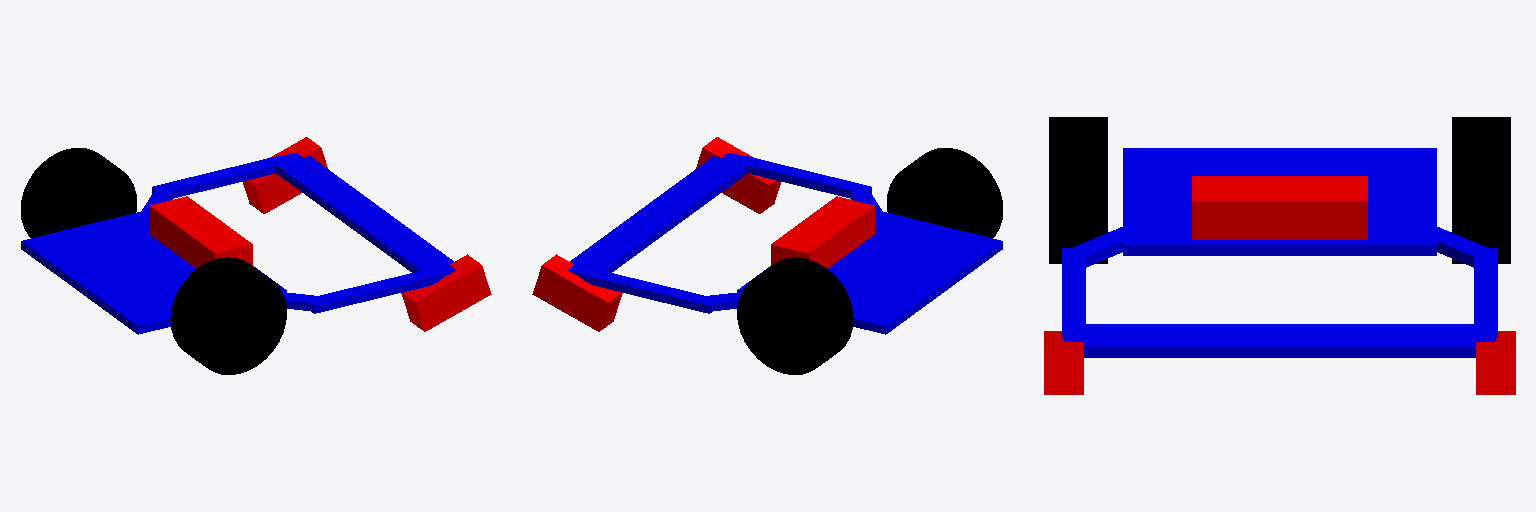
robot.urdf — line_follower:
<?xml version="1.0"?>
<robot name="line_follower">

    <material name="red">
        <color rgba="1 0 0 1"/>
    </material>

    <material name="blue">
        <color rgba="0 0 1 1"/>
    </material>
  
    <material name="green">
        <color rgba="0 1 0 1"/>
    </material>  

    <material name="black">
        <color rgba="0 0 0 1"/>
    </material>


  
  
	<link name="main_board_0">
    	<visual>
      		<geometry>
        		<box size="0.047 0.064 0.0025"/>
      		</geometry>
            <material name ="blue"/>
		  </visual>
  
  		<collision>
        	<geometry>
        		<box size="0.047 0.064 0.0025"/>
            </geometry>
        </collision>

        <contact>
          <lateral_friction value="0.0"/>
          <rolling_friction value="0.0"/>
          <stiffness value="300000"/>
          <damping value="1000"/>
        </contact>
  
   		  <inertial>
            <mass value="0.053"/>
            <inertia ixx="0.0" ixy="0.0" ixz="0.0" iyy="0.0" iyz="0.0" izz="6e-4"/>
        </inertial>
	</link>


	<link name="main_board_1">
    	<visual>
      		<geometry>
         		<box size="0.011 0.088 0.0025"/>
      		</geometry>
          	<material name ="blue"/>
    	</visual>


	    <collision>
        	<geometry>
        		<box size="0.011 0.088 0.0025"/>
            </geometry>
        </collision>

        <contact>
          <lateral_friction value="0.0"/>
          <rolling_friction value="0.0"/>
          <stiffness value="300000"/>
          <damping value="1000"/>
        </contact>
  
   		<inertial>
            <mass value="0.02"/>
            <inertia ixx="0.0" ixy="0.0" ixz="0.0" iyy="0.0" iyz="0.0" izz="6e-4"/>
        </inertial>
	</link>



    <link name="main_board_left_a">
    	<visual>
      		<geometry>
         		<box size="0.04 0.005 0.0025"/>
      		</geometry>
          	<material name ="blue"/>
    	</visual>

	    <collision>
        	<geometry>
        		<box size="0.04 0.005 0.0025"/>
            </geometry>
        </collision>

        <contact>
          <lateral_friction value="0.0"/>
          <rolling_friction value="0.0"/>
          <stiffness value="300000"/>
          <damping value="1000"/>
        </contact>
  
   		<inertial>
            <mass value="0.0"/>
            <inertia ixx="0.0" ixy="0.0" ixz="0.0" iyy="0.0" iyz="0.0" izz="6e-4"/>
        </inertial>
	</link>



	<link name="main_board_left_b">
    	<visual>
      		<geometry>
         		<box size="0.02 0.005 0.0025"/>
      		</geometry>
          	<material name ="blue"/>
    	</visual>

	    <collision>
        	<geometry>
        		<box size="0.02 0.005 0.0025"/>
            </geometry>
        </collision>

        <contact>
          <lateral_friction value="0.0"/>
          <rolling_friction value="0.0"/>
          <stiffness value="300000"/>
          <damping value="1000"/>
        </contact>
  
   		<inertial>
            <mass value="0.0"/>
            <inertia ixx="0.0" ixy="0.0" ixz="0.0" iyy="0.0" iyz="0.0" izz="6e-4"/>
        </inertial>
	</link>




    <link name="main_board_right_a">
    	<visual>
      		<geometry>
         		<box size="0.04 0.005 0.0025"/>
      		</geometry>
          	<material name ="blue"/>
    	</visual>

	    <collision>
        	<geometry>
        		<box size="0.04 0.005 0.0025"/>
            </geometry>
        </collision>

        <contact>
          <lateral_friction value="0.0"/>
          <rolling_friction value="0.0"/>
          <stiffness value="300000"/>
          <damping value="1000"/>
        </contact>
  
   		<inertial>
            <mass value="0.0"/>
            <inertia ixx="0.0" ixy="0.0" ixz="0.0" iyy="0.0" iyz="0.0" izz="6e-4"/>
        </inertial>
	</link>



	<link name="main_board_right_b">
    	<visual>
      		<geometry>
         		<box size="0.02 0.005 0.0025"/>
      		</geometry>
          	<material name ="blue"/>
    	</visual>

	    <collision>
        	<geometry>
        		<box size="0.02 0.005 0.0025"/>
            </geometry>
        </collision>

        <contact>
          <lateral_friction value="0.0"/>
          <rolling_friction value="0.0"/>
          <stiffness value="300000"/>
          <damping value="1000"/>
        </contact>
  
   		<inertial>
            <mass value="0.0"/>
            <inertia ixx="0.0" ixy="0.0" ixz="0.0" iyy="0.0" iyz="0.0" izz="6e-4"/>
        </inertial>
	</link>


  <link name="front_left">
    	<visual>
      		<geometry>
         		<box size="0.022 0.008 0.01"/>
      		</geometry>
            <material name ="red"/>
    	</visual>

 		<collision>
			<geometry>
         		<box size="0.022 0.008 0.01"/>
      		</geometry>
        </collision>

        <contact>
          <lateral_friction value="0.0"/>
          <rolling_friction value="0.0"/>
          <stiffness value="10000000"/>
          <damping value="10000"/>
        </contact>

        <inertial>
            <mass value="0.0005"/>
            <inertia ixx="0.0" ixy="0.0" ixz="0.0" iyy="0.0" iyz="0.0" izz="6e-4"/>
        </inertial>
	</link>


	<link name="front_right">
    	<visual>
      		<geometry>
         		<box size="0.022 0.008 0.01"/>
      		</geometry>
            <material name ="red"/>
    	</visual>

 		<collision>
			<geometry>
         		<box size="0.022 0.008 0.01"/>
      		</geometry>
        </collision>

        <contact>
          <lateral_friction value="0.0"/>
          <rolling_friction value="0.0"/>
          <stiffness value="10000000"/>
          <damping value="10000"/>
        </contact>

        <inertial>
            <mass value="0.0005"/>
            <inertia ixx="0.0" ixy="0.0" ixz="0.0" iyy="0.0" iyz="0.0" izz="6e-4"/>
        </inertial>
	</link>


  <link name="accu">
    	<visual>
      		<geometry>
         		<box size="0.012 0.036 0.01"/>
      		</geometry>
          	<material name ="red"/>
    	</visual>


	    <collision>
        	<geometry>
         		<box size="0.012 0.036 0.01"/>
          </geometry>
      </collision>

        <contact>
          <lateral_friction value="0.0"/>
          <rolling_friction value="0.0"/>
          <stiffness value="300000"/>
          <damping value="1000"/>
        </contact>
  
   		<inertial>
            <mass value="0.01"/>
            <inertia ixx="0.0" ixy="0.0" ixz="0.0" iyy="0.0" iyz="0.0" izz="6e-4"/>
        </inertial>
	</link>



	<link name="left_wheel">
        <visual>
            <geometry>
                <cylinder length="0.012" radius="0.015"/>
            </geometry>
            <material name="black"/>
        </visual>
        <collision>
            <geometry>
                <cylinder length="0.012" radius="0.015"/>
            </geometry>
        </collision>

        <contact>
          <lateral_friction value="0.6"/>
          <rolling_friction value="0.0"/>
          <stiffness value="300000"/>
          <damping value="1000"/>
        </contact>


        <inertial>
            <mass value="0.01"/>
            <inertia ixx="0.0" ixy="0.0" ixz="0.0" iyy="0.0" iyz="0.0" izz="1e-6"/>
        </inertial>
    </link>

    

	<link name="right_wheel">
        <visual>
            <geometry>
                <cylinder length="0.012" radius="0.015"/>
            </geometry>
            <material name="black"/>
        </visual>
        <collision>
            <geometry>
                <cylinder length="0.012" radius="0.015"/>
            </geometry>
        </collision>

        <contact>
          <lateral_friction value="0.6"/>
          <rolling_friction value="0.0"/>
          <stiffness value="300000"/>
          <damping value="1000"/>
        </contact>

        <inertial>
            <mass value="0.01"/>
            <inertia ixx="0.0" ixy="0.0" ixz="0.0" iyy="0.0" iyz="0.0" izz="1e-6"/>
        </inertial>
    </link>








	<joint name="main_board_0_left_wheel" type="continuous">
    <parent link="main_board_0"/>
    <child link="left_wheel"/>
    <origin rpy="-1.5708 0.0 0" xyz="0.0 0.041 0.0025"/>
    <axis xyz="0 0 1"/>
  </joint>


  <joint name="main_board_0_right_wheel" type="continuous">
    <parent link="main_board_0"/>
    <child link="right_wheel"/>
    <origin rpy="1.5708 0.0 0" xyz="0.0 -0.041 0.0025"/>
    <axis xyz="0 0 -1"/>
  </joint>




	<joint name="main_board_0_main_board_1" type="fixed">
		<parent link="main_board_0"/>
		<child link="main_board_1"/>
    <origin rpy="0 0 0" xyz="0.067 0.0 0.0"/>
 	</joint>


<joint name="main_board_1_front_0" type="fixed">
		<parent link="main_board_1"/>
		<child link="front_left"/>
    <origin rpy="0 -0.3 0" xyz="0.0 0.044 -0.005"/>
 	</joint>

	<joint name="main_board_1_front_1" type="fixed">
		<parent link="main_board_1"/>
		<child link="front_right"/>
    <origin rpy="0 -0.3 0" xyz="0.0 -0.044 -0.005"/>
 	</joint>





  <joint name="main_board_0_accu" type="fixed">
		<parent link="main_board_0"/>
		<child link="accu"/>
    <origin rpy="0.0 0 0" xyz="0.015 0.0 0.005"/>
 	</joint>


  <joint name="main_board_0_main_board_left_a" type="fixed">
		<parent link="main_board_0"/>
		<child link="main_board_left_a"/>
    <origin rpy="0 0 0" xyz="0.045 0.042 0.0"/>
 	</joint>

  <joint name="main_board_0_main_board_left_b" type="fixed">
		<parent link="main_board_0"/>
		<child link="main_board_left_b"/>
    <origin rpy="0 0 0.785" xyz="0.021 0.035 0.0"/>
 	</joint>

  <joint name="main_board_0_main_board_right_a" type="fixed">
		<parent link="main_board_0"/>
		<child link="main_board_right_a"/>
    <origin rpy="0 0 0" xyz="0.045 -0.042 0.0"/>
 	</joint>

  <joint name="main_board_0_main_board_right_b" type="fixed">
		<parent link="main_board_0"/>
		<child link="main_board_right_b"/>
    <origin rpy="0 0 -0.785" xyz="0.021 -0.035 0.0"/>
 	</joint>

</robot>

--- What the picture shows (computed from the rendered views, not written in the file) ---
3 views of the same robot in one strip: view 1: azimuth 30°, elevation 25°; view 2: azimuth 150°, elevation 25°; view 3: azimuth 270°, elevation 25° (orthographic).
Robot: line_follower — 11 links, 10 joints (2 continuous, 8 fixed); root link main_board_0; default pose: all joints at 0.
Links seen in each view (by area): view 1: main_board_0, right_wheel, left_wheel, main_board_1, accu, front_right, main_board_right_a, front_left, main_board_left_a; view 2: main_board_0, left_wheel, right_wheel, main_board_1, accu, front_left, main_board_left_a, front_right, main_board_right_a; view 3: main_board_0, main_board_1, accu, left_wheel, right_wheel, front_left, front_right, main_board_left_a, main_board_right_a, main_board_left_b, main_board_right_b.
Link boxes in pixels (box(x1,y1,x2,y2)): main_board_0: box(21, 210, 286, 334); right_wheel: box(170, 257, 286, 374); left_wheel: box(21, 148, 136, 237); main_board_1: box(268, 153, 455, 278); accu: box(149, 196, 252, 268); front_right: box(401, 254, 491, 331); main_board_right_a: box(311, 268, 440, 313); front_left: box(243, 137, 327, 213); main_board_left_a: box(152, 156, 285, 197); main_board_0: box(737, 210, 1002, 334); left_wheel: box(737, 257, 853, 374); right_wheel: box(887, 148, 1002, 237); main_board_1: box(568, 153, 754, 278); accu: box(771, 196, 874, 268); front_left: box(532, 254, 622, 331); main_board_left_a: box(583, 268, 713, 313); front_right: box(696, 137, 780, 213); main_board_right_a: box(741, 156, 871, 197); main_board_0: box(1123, 148, 1436, 255); main_board_1: box(1064, 324, 1495, 357); accu: box(1192, 176, 1367, 239); left_wheel: box(1452, 117, 1510, 263); right_wheel: box(1049, 117, 1107, 263); front_left: box(1476, 331, 1515, 394); front_right: box(1044, 331, 1083, 394); main_board_left_a: box(1474, 248, 1497, 337); main_board_right_a: box(1062, 248, 1085, 337); main_board_left_b: box(1412, 227, 1489, 267); main_board_right_b: box(1071, 227, 1147, 267).
Bounding box of the posed robot: 0.1025 × 0.096 × 0.0305 m (x, y, z).
Geometry: primitives only (box / cylinder / sphere), no mesh files.
